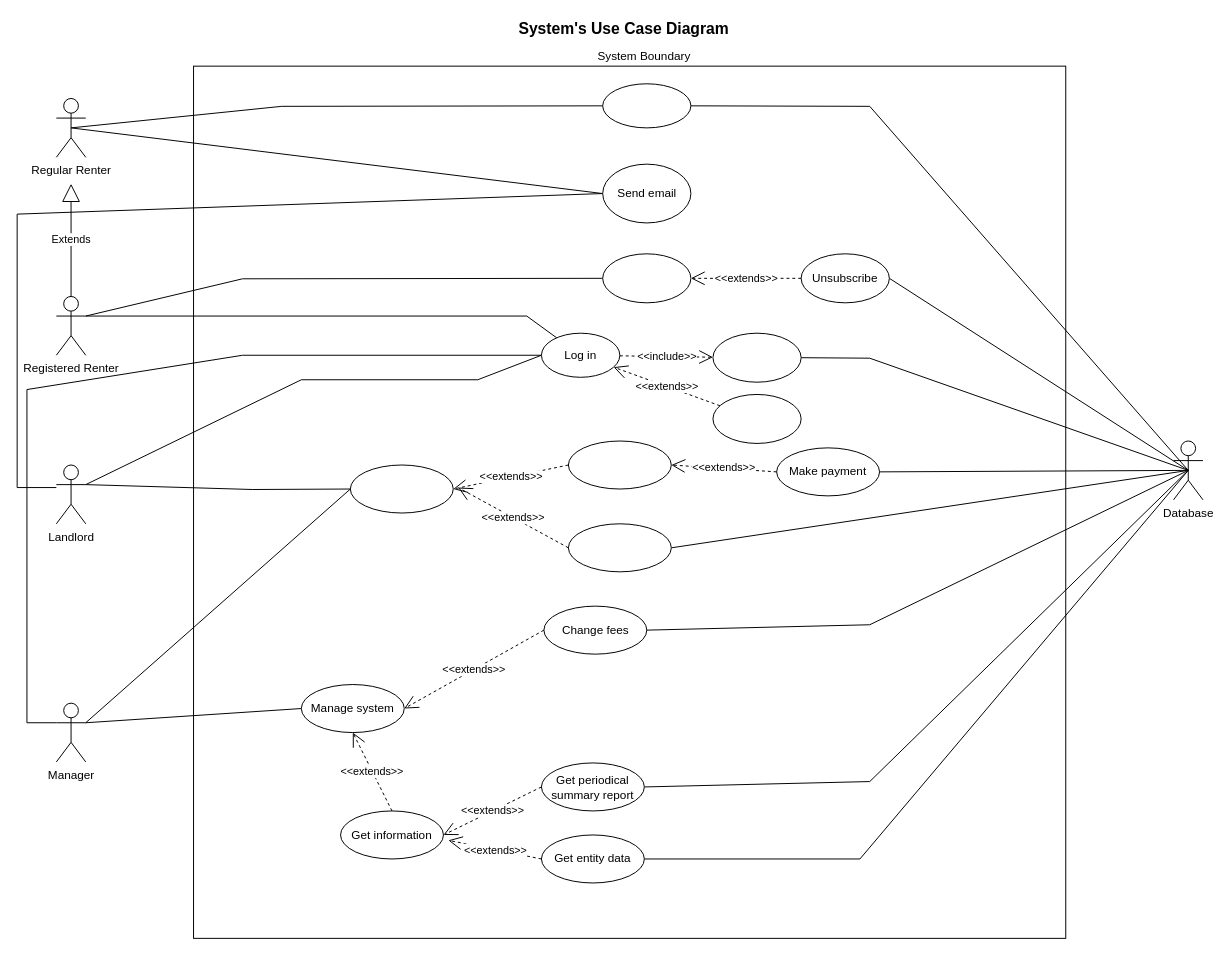
Some shapes in this 1230 by 956 pixel diagram are drawn without their labels. Here are the shapes that lost their labels. From the top down, the centre of each, then its label:
the point at 646,105: Search listing
the point at 646,278: Get notification
the point at 756,357: Verify Password
the point at 756,418: Display Login Error
the point at 619,464: Create listing
the point at 401,488: Manage listing
the point at 619,547: Edit listing
